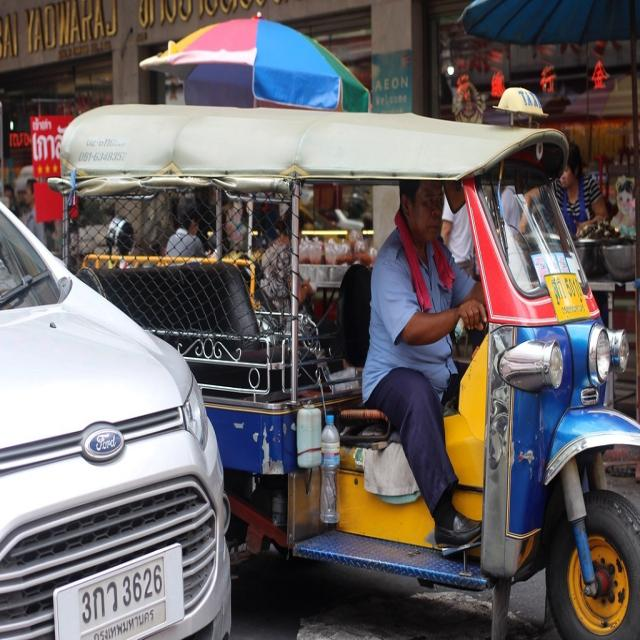plate: (41, 547, 191, 640), (540, 266, 598, 331)
